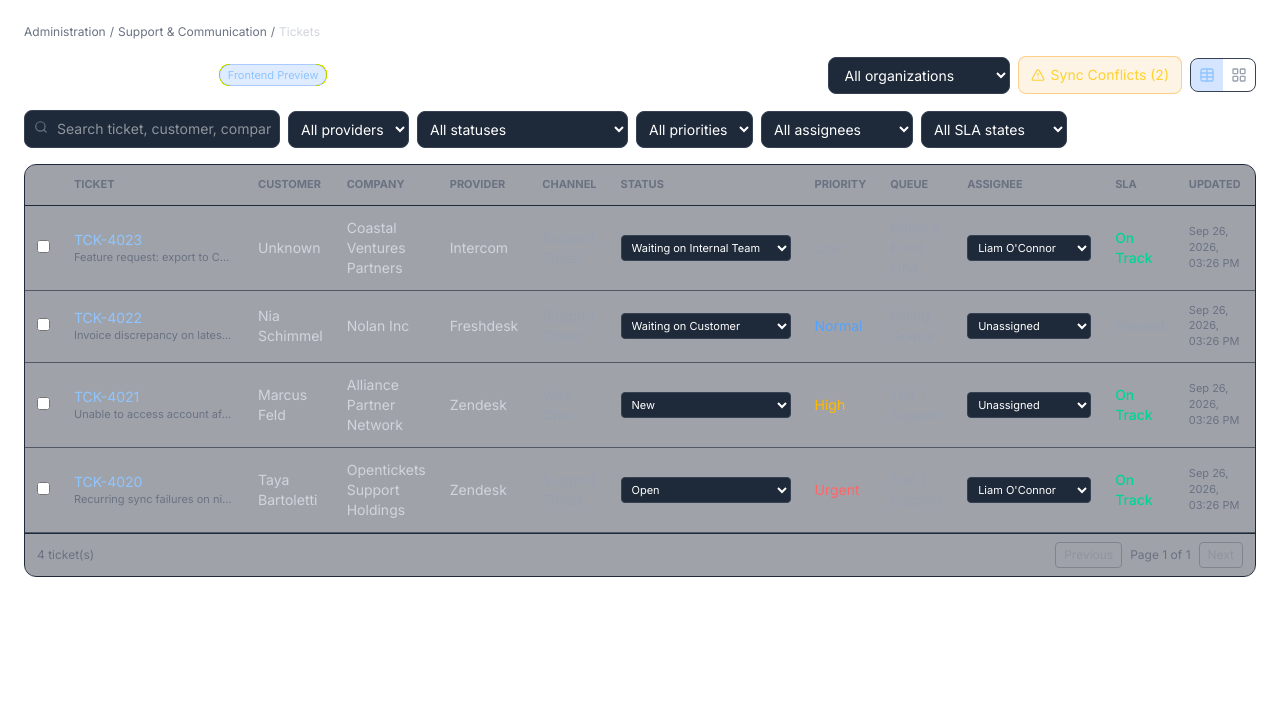
Test: SupportTicketsIntegration › shows the Synchronization Conflicts panel with resolution options
The width and height of the screenshot is (1280, 720).
Click the button "Sync Conflicts (2)": [1100, 75] box [1018,56,1182,94]
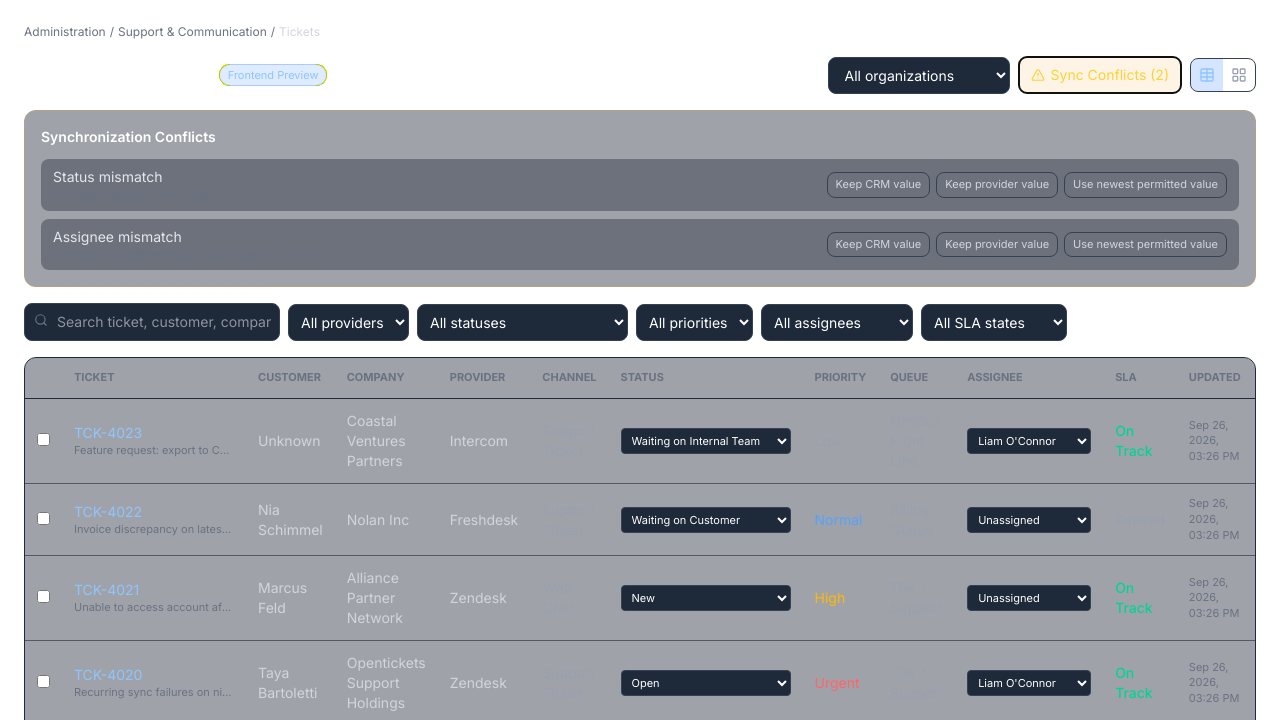
Expected: the heading "Synchronization Conflicts" is shown, [41,128,216,145]
